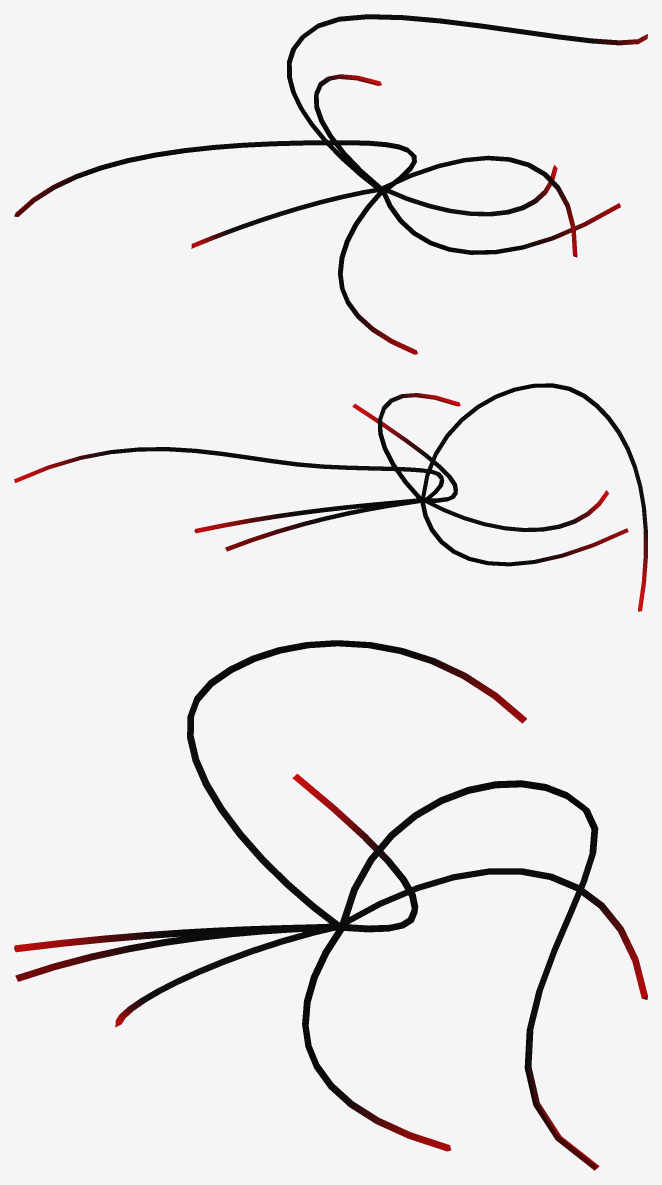
Rendered from SM_LootBox_BuildUp_Lines.fbx.
3 views of the same model, one above another, from view 1: azimuth 30°, elevation 25°; view 2: azimuth 150°, elevation 25°; view 3: azimuth 270°, elevation 25° (orthographic). The views are drawn at different scales.
Parts seen in each view (by area): view 1: SM_LootBox_BuildUp_Lines; view 2: SM_LootBox_BuildUp_Lines; view 3: SM_LootBox_BuildUp_Lines.
Part boxes in pixels (box(x1,y1,x2,y2)): SM_LootBox_BuildUp_Lines: box(14, 14, 647, 354); SM_LootBox_BuildUp_Lines: box(14, 383, 647, 611); SM_LootBox_BuildUp_Lines: box(14, 640, 647, 1170).
Size of the model in its own units: 522 by 311 by 130.
